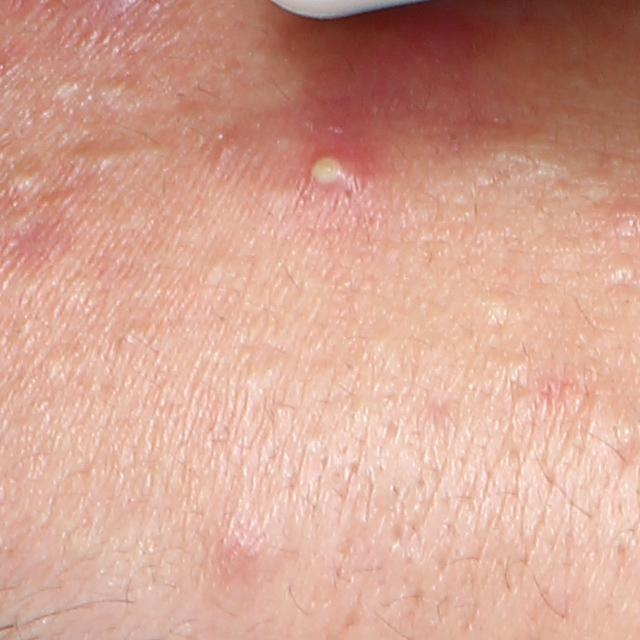atrophic_scar: (610, 433, 640, 470)
comedo: (62, 139, 121, 181), (482, 291, 513, 322), (202, 257, 233, 285), (610, 258, 639, 281)
papule: (212, 524, 267, 577)
pustule: (295, 130, 389, 196)
